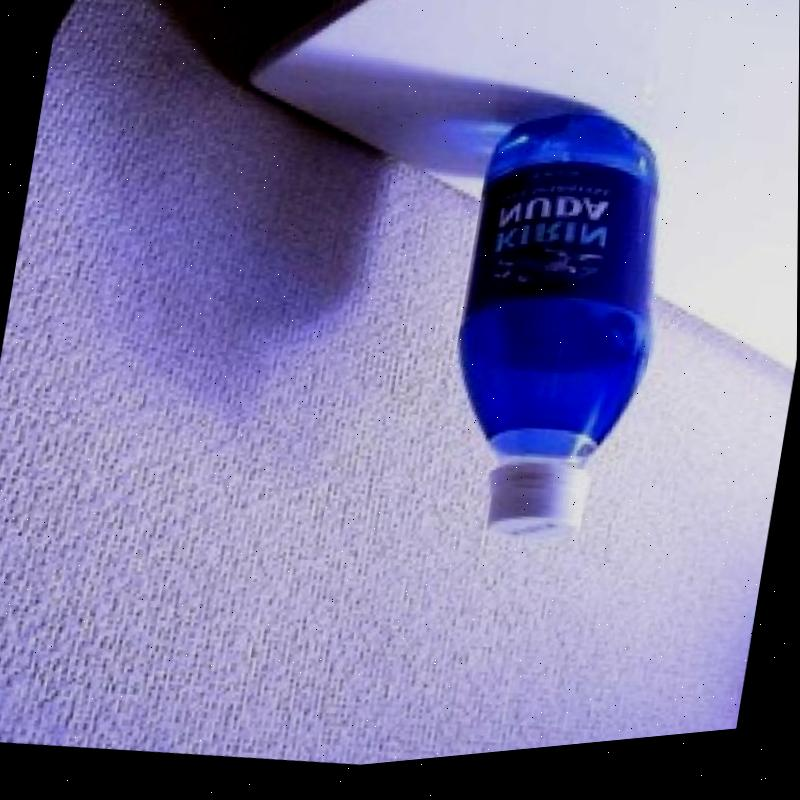botella: (432, 105, 685, 567)
